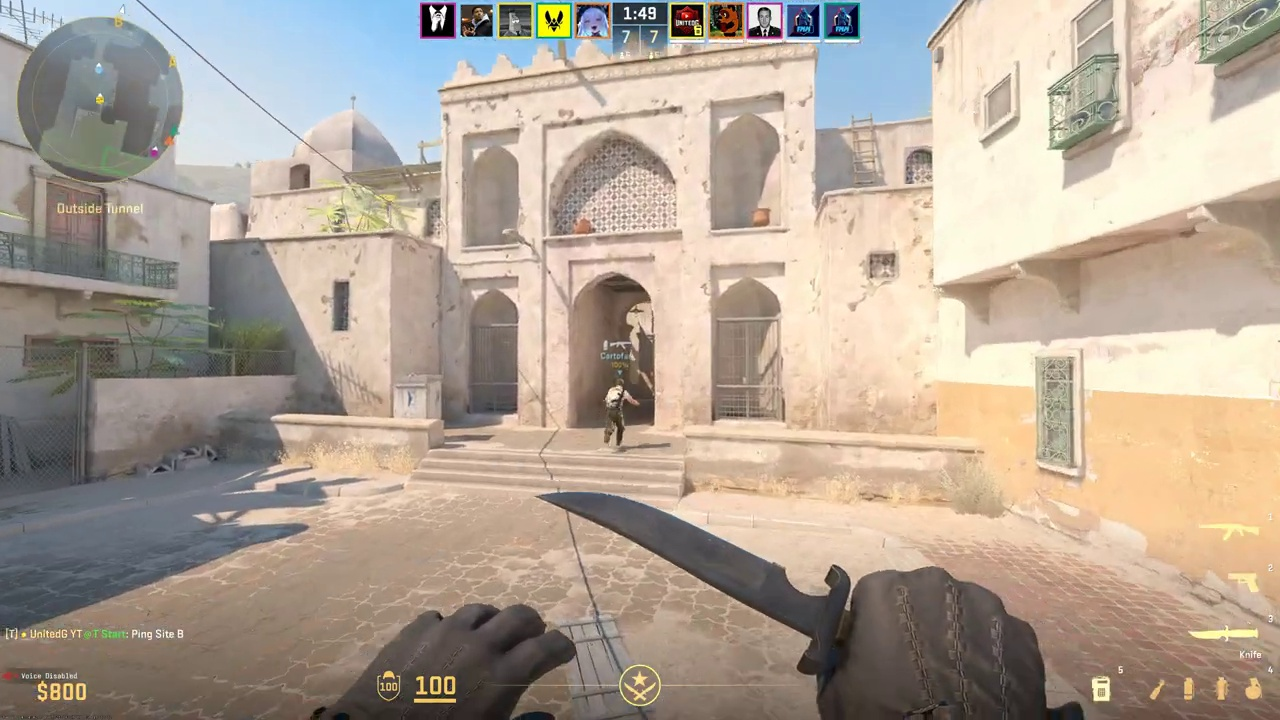Terrorist: (604, 379, 631, 446)
